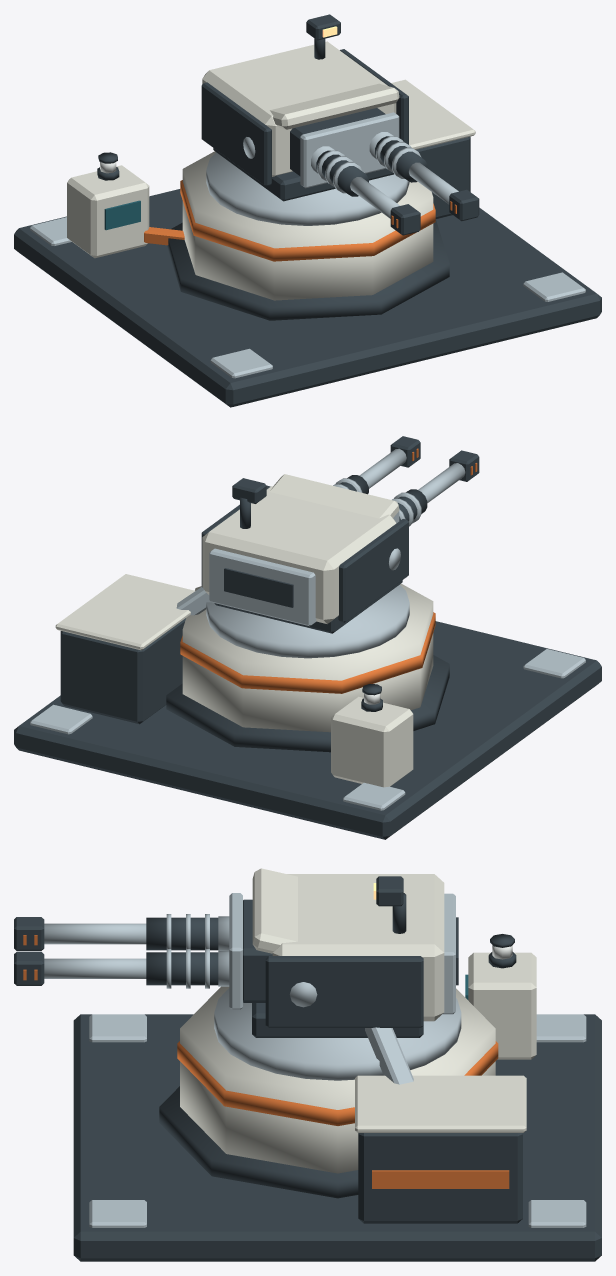
The model's file is turret.glb.
3 renders of one model, top to bottom at view 1: azimuth 30°, elevation 25°; view 2: azimuth 150°, elevation 25°; view 3: azimuth 270°, elevation 25°, orthographic. The views are drawn at different scales.
Parts seen in each view (by area): view 1: turret_dark, turret_ivory, Head, turret_metal, Cradle, turret_orange, BarrelR, BarrelL, turret_glass; view 2: turret_dark, turret_ivory, Head, turret_metal, turret_orange, BarrelL, BarrelR; view 3: turret_dark, turret_ivory, Head, turret_metal, turret_orange, BarrelR, BarrelL, Cradle.
Boxes of the visible parts, <box> form: turret_dark: <box>14,136,601,407</box>; turret_ivory: <box>67,79,475,300</box>; Head: <box>201,14,408,201</box>; turret_metal: <box>30,152,585,378</box>; Cradle: <box>243,108,399,188</box>; turret_orange: <box>144,180,435,261</box>; BarrelR: <box>369,132,479,221</box>; BarrelL: <box>311,146,420,235</box>; turret_glass: <box>104,200,140,230</box>; turret_dark: <box>14,618,601,839</box>; turret_ivory: <box>55,574,433,787</box>; Head: <box>201,474,408,633</box>; turret_metal: <box>30,584,585,810</box>; turret_orange: <box>180,612,435,693</box>; BarrelL: <box>392,450,479,526</box>; BarrelR: <box>333,436,420,494</box>; turret_dark: <box>73,934,601,1261</box>; turret_ivory: <box>180,952,536,1173</box>; Head: <box>252,868,458,1037</box>; turret_metal: <box>89,988,586,1227</box>; turret_orange: <box>177,1041,509,1188</box>; BarrelR: <box>14,949,229,988</box>; BarrelL: <box>14,914,229,950</box>; Cradle: <box>229,893,317,1009</box>.
Size of the model in its own units: 3.85 by 2.35 by 4.28.
